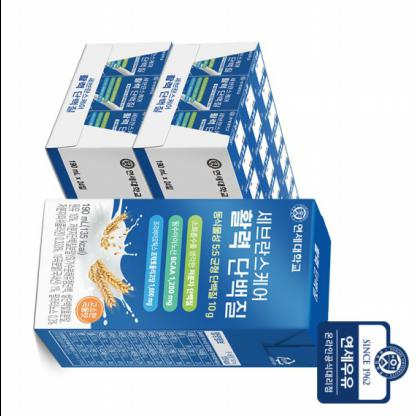tetra: (24, 192, 340, 380)
